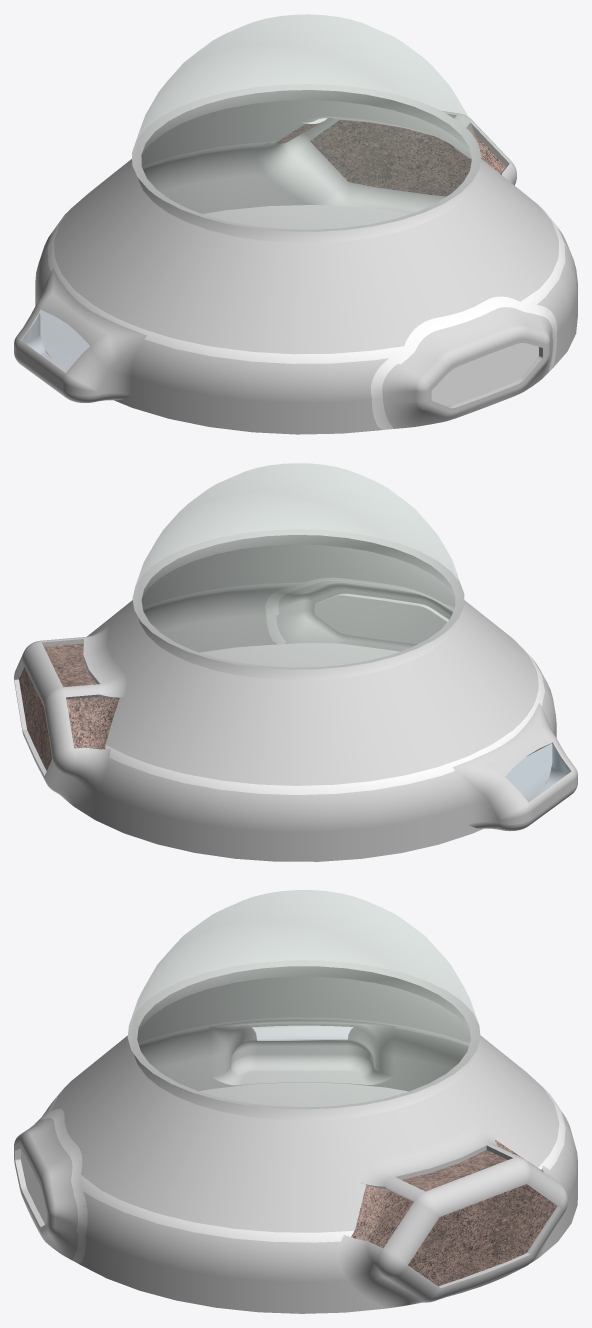
Rendered from ufo.glb.
3 renders of one model, top to bottom at view 1: azimuth 30°, elevation 25°; view 2: azimuth 150°, elevation 25°; view 3: azimuth 270°, elevation 25°, orthographic. The views are drawn at different scales.
Visible parts, largest first — view 1: Extruded.001; view 2: Extruded.001; view 3: Extruded.001.
Part boxes in pixels (x1,y1,x2,y2): Extruded.001: (14,14,577,434); Extruded.001: (14,463,577,861); Extruded.001: (14,890,577,1313).
Size of the model in its own units: 3.31 by 1.76 by 3.09.
Materials: 6 (2 with a texture image).
